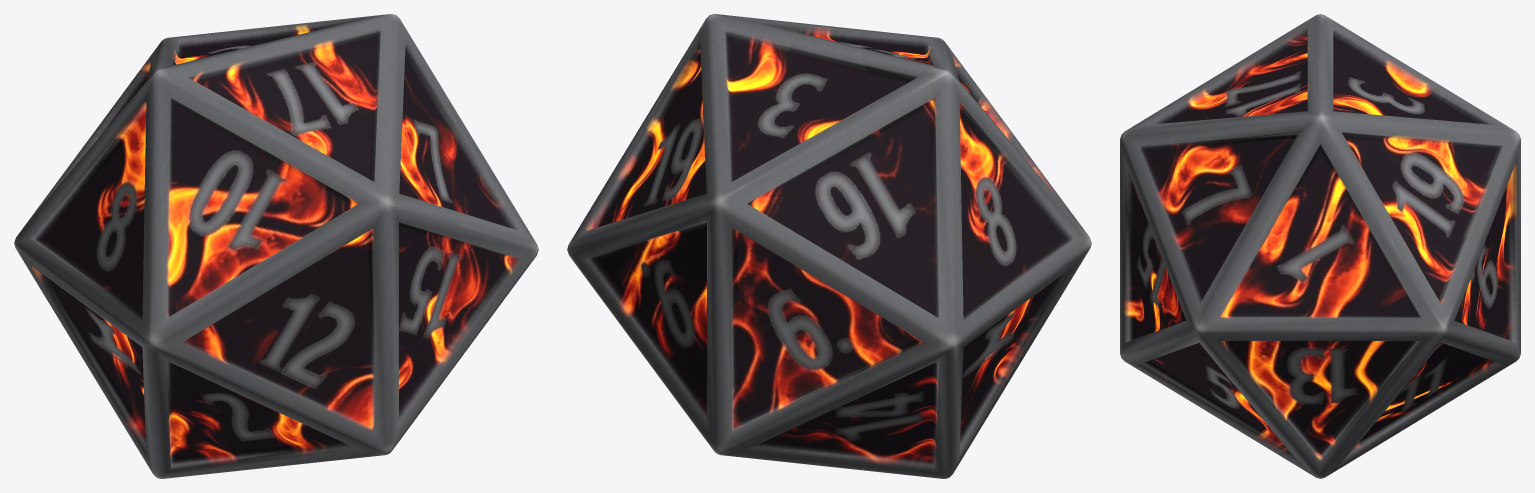
Rendered from dice_20.gltf.
3 renders of one model, left to right at view 1: azimuth 30°, elevation 25°; view 2: azimuth 150°, elevation 25°; view 3: azimuth 270°, elevation 25°, orthographic. The views are drawn at different scales.
Visible parts, largest first — view 1: dice_20; view 2: dice_20; view 3: dice_20.
Part boxes in pixels (box(x1,y1,x2,y2)): dice_20: box(14, 14, 538, 478); dice_20: box(567, 14, 1091, 478); dice_20: box(1120, 14, 1520, 478).
Size of the model in its own units: 170 by 170 by 170.
Materials: 1 (1 with a texture image).
